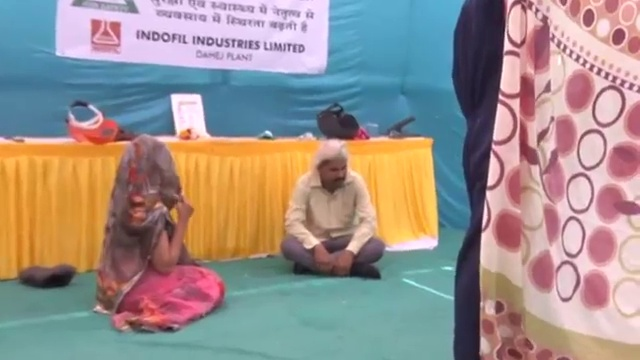helmet_off: (122, 138, 181, 194), (315, 141, 348, 193)
person: (97, 137, 227, 332), (448, 1, 509, 359), (280, 140, 386, 281)
